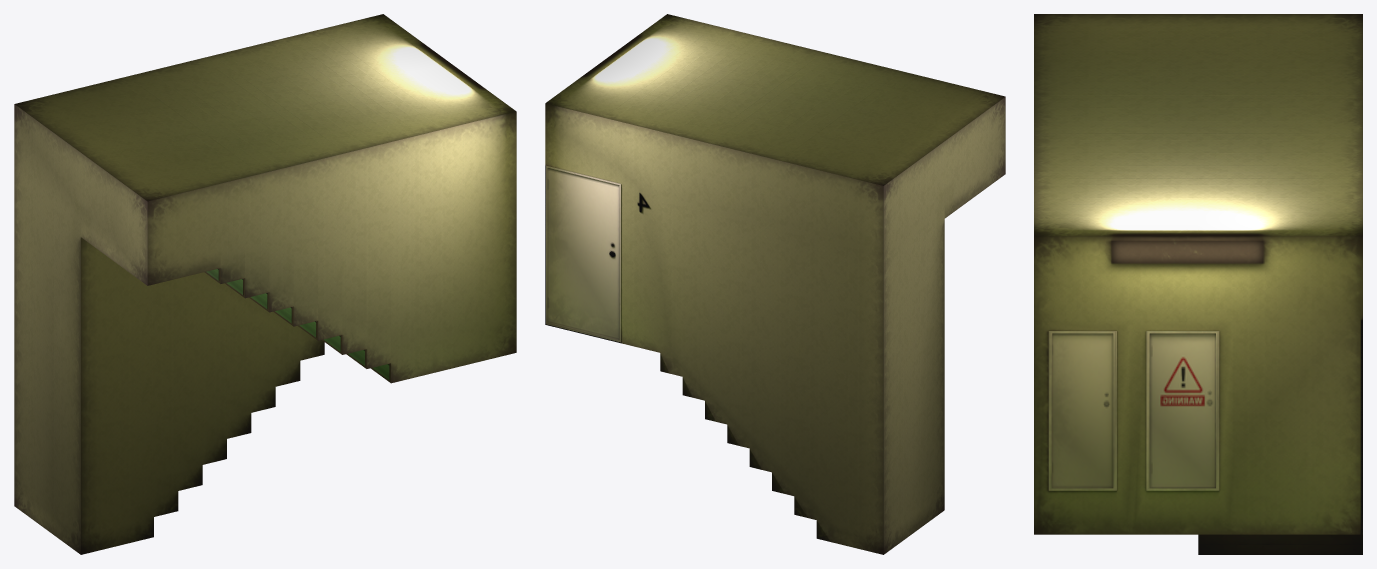
The model's file is horror_corridor_vr_room_baked.glb.
3 renders of one model, left to right at view 1: azimuth 30°, elevation 25°; view 2: azimuth 150°, elevation 25°; view 3: azimuth 270°, elevation 25°, orthographic. The views are drawn at different scales.
Visible parts, largest first — view 1: Cube.001_0; view 2: Cube.001_0; view 3: Cube.001_0.
Boxes of the visible parts, x1,y1,x2,y2 form: Cube.001_0: [14, 14, 516, 554]; Cube.001_0: [545, 14, 1005, 554]; Cube.001_0: [1034, 14, 1362, 554].
Size of the model in its own units: 9.6 by 10.02 by 6.
Materials: 2 (1 with a texture image).
